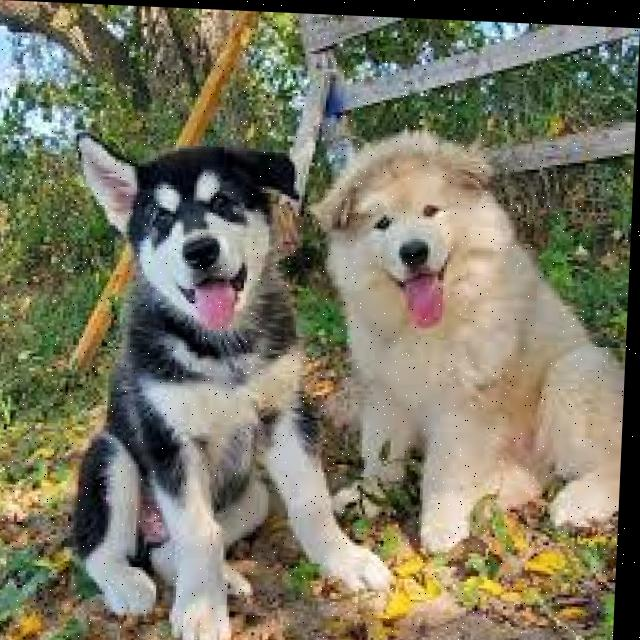ALASKAN_MALAMUTE: (325, 82, 637, 565)
